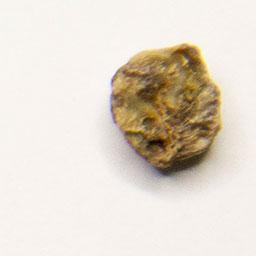defect: (101, 37, 226, 175)
